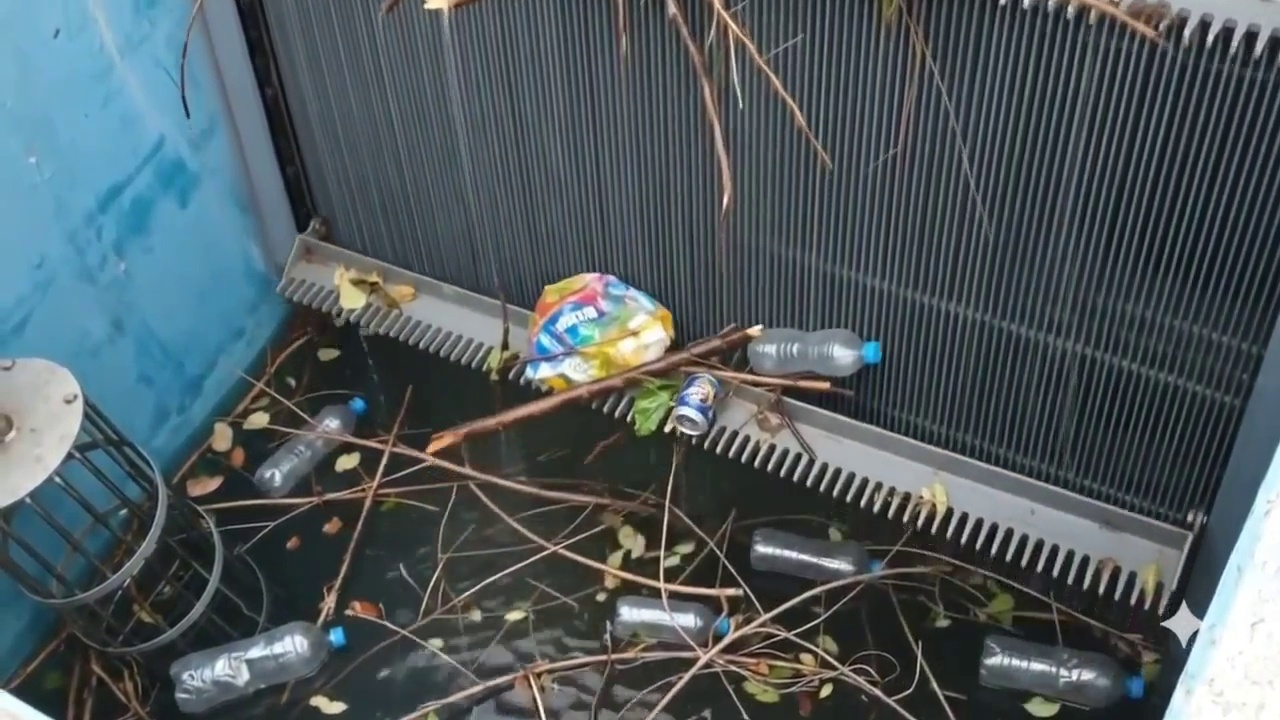debris: (426, 326, 761, 455), (531, 490, 727, 608), (525, 273, 673, 390), (173, 621, 345, 715), (978, 632, 1145, 716), (252, 397, 366, 496), (750, 527, 882, 580), (747, 328, 881, 377), (610, 596, 732, 645), (334, 266, 415, 310), (673, 373, 720, 436), (631, 380, 678, 436), (334, 267, 380, 310), (483, 347, 518, 380), (982, 592, 1014, 626), (616, 525, 646, 558), (920, 482, 948, 516), (1139, 563, 1161, 605), (754, 409, 786, 436), (742, 681, 780, 703), (186, 475, 224, 497), (381, 283, 415, 306), (308, 695, 347, 715), (1023, 696, 1060, 717), (1139, 648, 1160, 682), (210, 421, 233, 452), (422, 0, 477, 12), (1096, 557, 1118, 585), (348, 600, 382, 618), (40, 668, 65, 691), (132, 603, 157, 624), (243, 410, 270, 429), (335, 451, 360, 471), (606, 548, 628, 569), (629, 532, 646, 559), (796, 691, 813, 717), (816, 635, 838, 655), (1141, 660, 1161, 682), (616, 525, 635, 548), (228, 445, 246, 469), (513, 674, 532, 696), (929, 610, 951, 628), (768, 665, 796, 679), (600, 512, 623, 529), (959, 571, 985, 586), (748, 660, 770, 677), (247, 394, 270, 410), (741, 680, 765, 695), (322, 517, 342, 534), (670, 541, 696, 554), (316, 347, 340, 361), (984, 577, 1005, 593), (503, 609, 527, 622), (602, 573, 620, 589), (379, 498, 402, 510), (662, 553, 681, 567), (798, 652, 816, 666), (467, 606, 482, 622), (426, 637, 444, 650), (818, 683, 833, 698), (828, 527, 843, 541), (286, 535, 300, 550), (284, 376, 296, 389), (423, 710, 438, 719), (595, 591, 608, 601)
